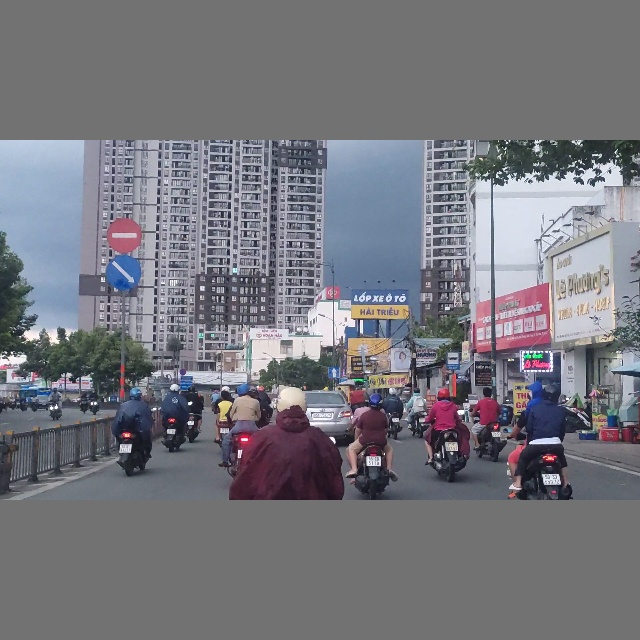I.407a: (328, 366, 341, 378)
I.434a: (446, 352, 460, 370)
P.102: (105, 215, 144, 255)
R.302a: (103, 254, 143, 291)
